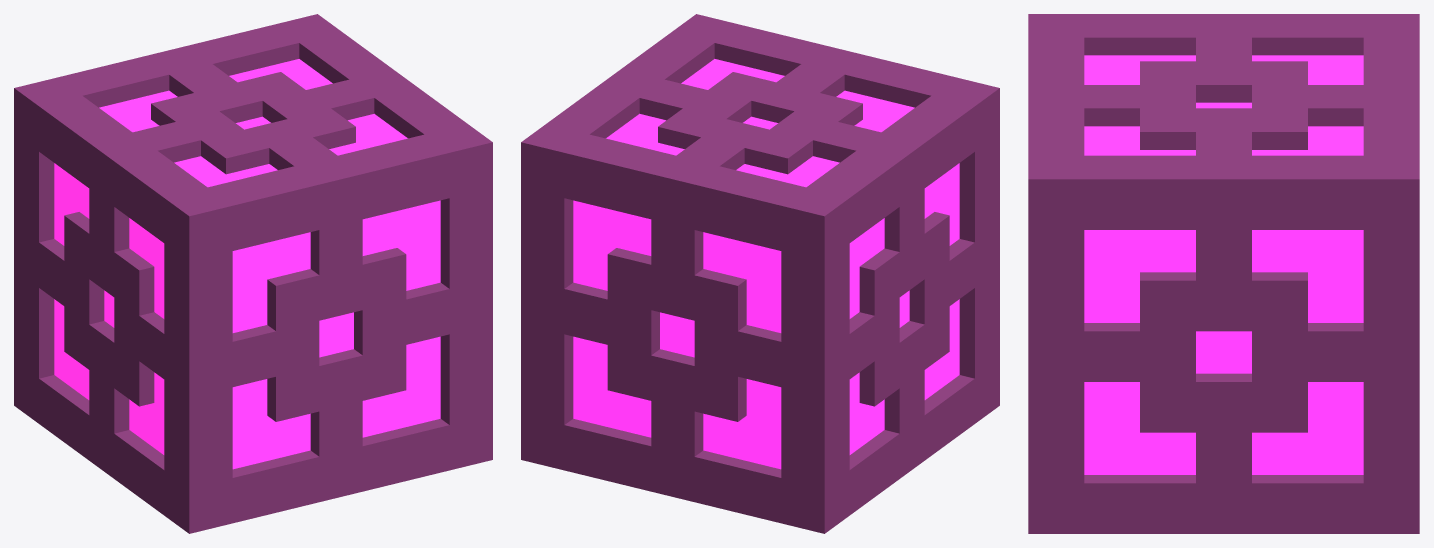
The model's file is CMPM179_Project1_boxLarge2.fbx.
The picture shows the model from 3 angles, left to right: view 1: azimuth 30°, elevation 25°; view 2: azimuth 150°, elevation 25°; view 3: azimuth 270°, elevation 25°; orthographic projection. The views are drawn at different scales.
Visible parts, largest first — view 1: box_large2; view 2: box_large2; view 3: box_large2.
Part boxes in pixels (<box>): box_large2: <box>14,14,492,533</box>; box_large2: <box>521,14,999,533</box>; box_large2: <box>1028,14,1419,533</box>.
Bounding box in the file's own units: 200 × 200 × 200.
